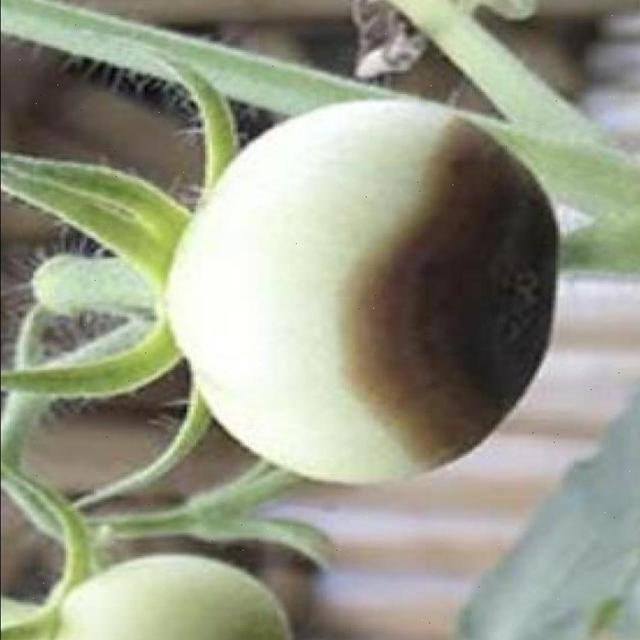Blossom End Rot Fruit: (218, 72, 370, 320)
